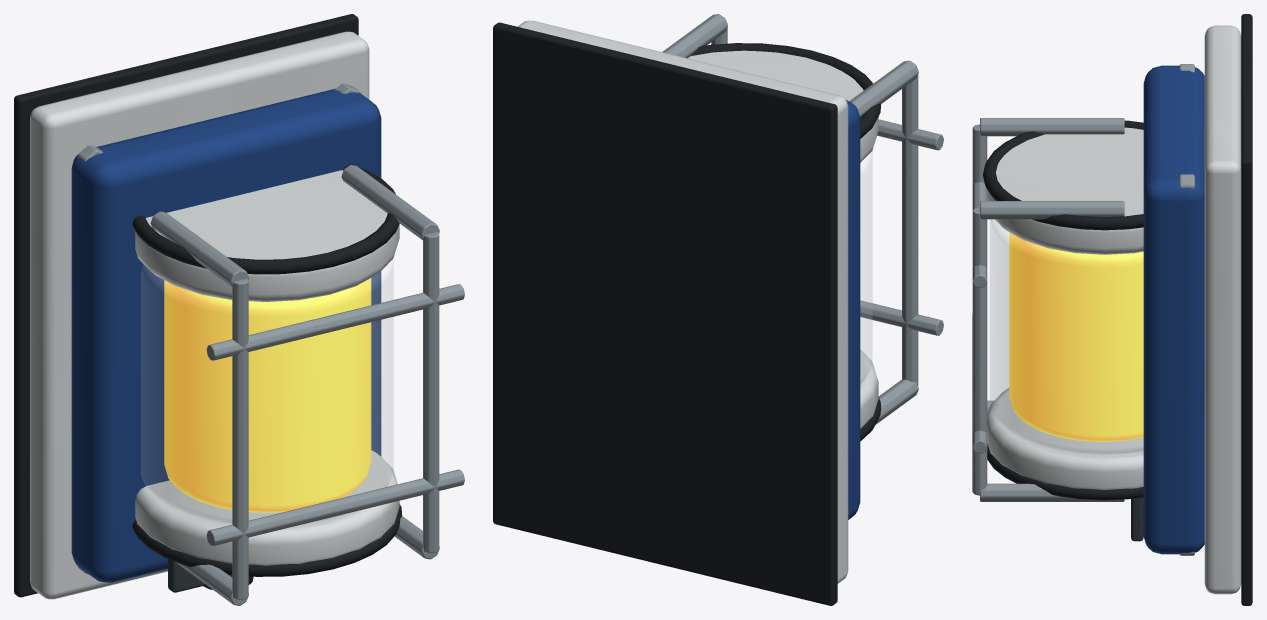
Rendered from 19_emergency_beacon.gltf.
3 renders of one model, left to right at view 1: azimuth 30°, elevation 25°; view 2: azimuth 150°, elevation 25°; view 3: azimuth 270°, elevation 25°, orthographic. The views are drawn at different scales.
Parts seen in each view (by area): view 1: 19_Cryo_Ceramic_Enamel, 19_Cryo_Cobalt_Enamel, 19_Cryo_Clear_Inspection_Glass, 19_Cryo_Amber_Status, 19_Cryo_Brushed_Steel, 19_Cryo_EPDM_Gasket, 19_Cryo_Anodized_Frame; view 2: 19_Cryo_EPDM_Gasket, 19_Cryo_Ceramic_Enamel, 19_Cryo_Brushed_Steel, 19_Cryo_Cobalt_Enamel, 19_Cryo_Clear_Inspection_Glass; view 3: 19_Cryo_Ceramic_Enamel, 19_Cryo_Clear_Inspection_Glass, 19_Cryo_Cobalt_Enamel, 19_Cryo_Amber_Status, 19_Cryo_Brushed_Steel, 19_Cryo_EPDM_Gasket, 19_Cryo_Anodized_Frame.
Part boxes in pixels (bbox=[...]): 19_Cryo_Ceramic_Enamel: bbox=[30, 31, 399, 599]; 19_Cryo_Cobalt_Enamel: bbox=[71, 88, 381, 582]; 19_Cryo_Clear_Inspection_Glass: bbox=[141, 259, 393, 523]; 19_Cryo_Amber_Status: bbox=[164, 278, 371, 512]; 19_Cryo_Brushed_Steel: bbox=[77, 83, 464, 605]; 19_Cryo_EPDM_Gasket: bbox=[14, 14, 402, 597]; 19_Cryo_Anodized_Frame: bbox=[168, 559, 232, 592]; 19_Cryo_EPDM_Gasket: bbox=[493, 22, 881, 605]; 19_Cryo_Ceramic_Enamel: bbox=[517, 20, 878, 583]; 19_Cryo_Brushed_Steel: bbox=[662, 14, 943, 424]; 19_Cryo_Cobalt_Enamel: bbox=[846, 100, 860, 519]; 19_Cryo_Clear_Inspection_Glass: bbox=[860, 151, 872, 382]; 19_Cryo_Ceramic_Enamel: bbox=[985, 25, 1241, 594]; 19_Cryo_Clear_Inspection_Glass: bbox=[990, 219, 1143, 454]; 19_Cryo_Cobalt_Enamel: bbox=[1143, 65, 1204, 554]; 19_Cryo_Amber_Status: bbox=[1009, 232, 1143, 442]; 19_Cryo_Brushed_Steel: bbox=[972, 64, 1194, 555]; 19_Cryo_EPDM_Gasket: bbox=[983, 14, 1252, 605]; 19_Cryo_Anodized_Frame: bbox=[1131, 497, 1143, 541].
Size of the model in its own units: 0.25 by 0.35 by 0.1993.
Materials: 7 (5 with a texture image).
